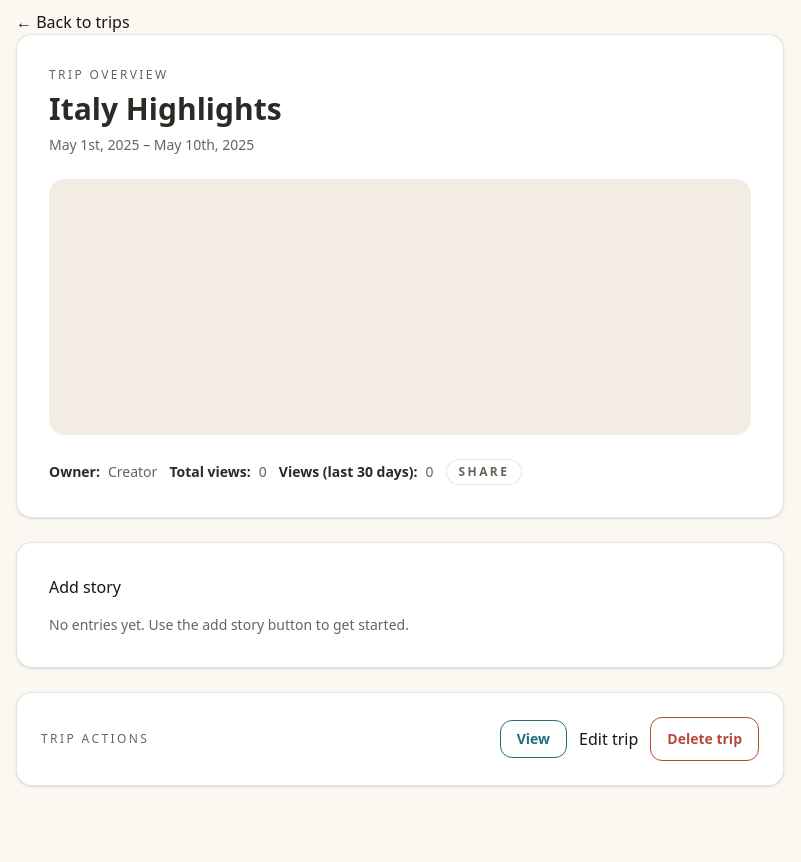
Test: TripDetail share panel › shows an existing share link without regenerate action
The image size is (801, 862).
Click the button with aria-label "share trip" at (484, 472), box [446,459,522,485]
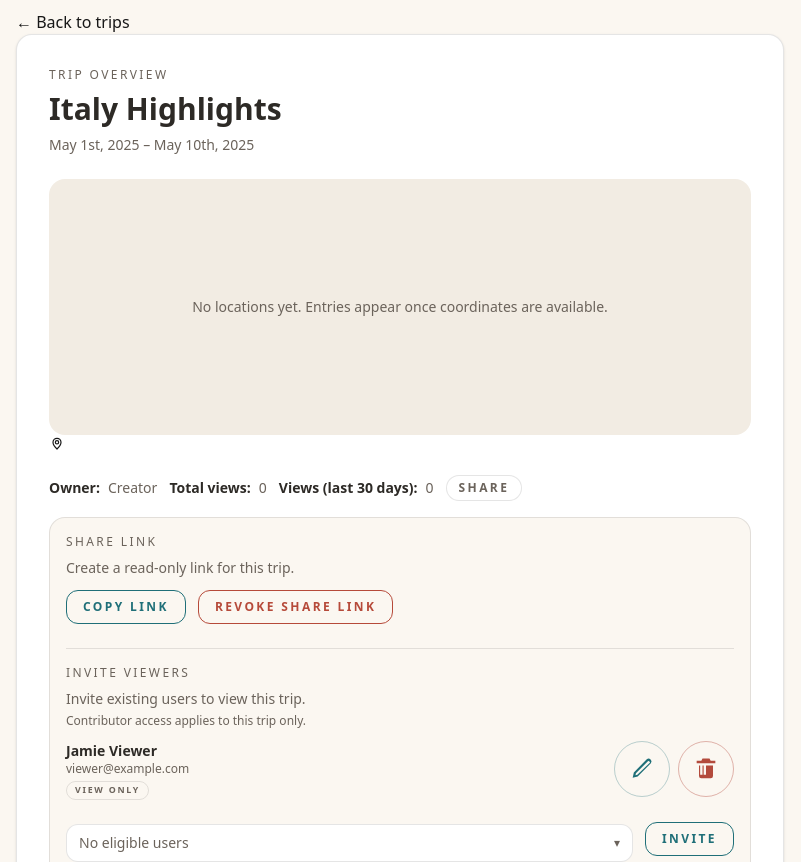
Now the element "Copy link Revoke share link" is shown, box [66,590,393,624]
